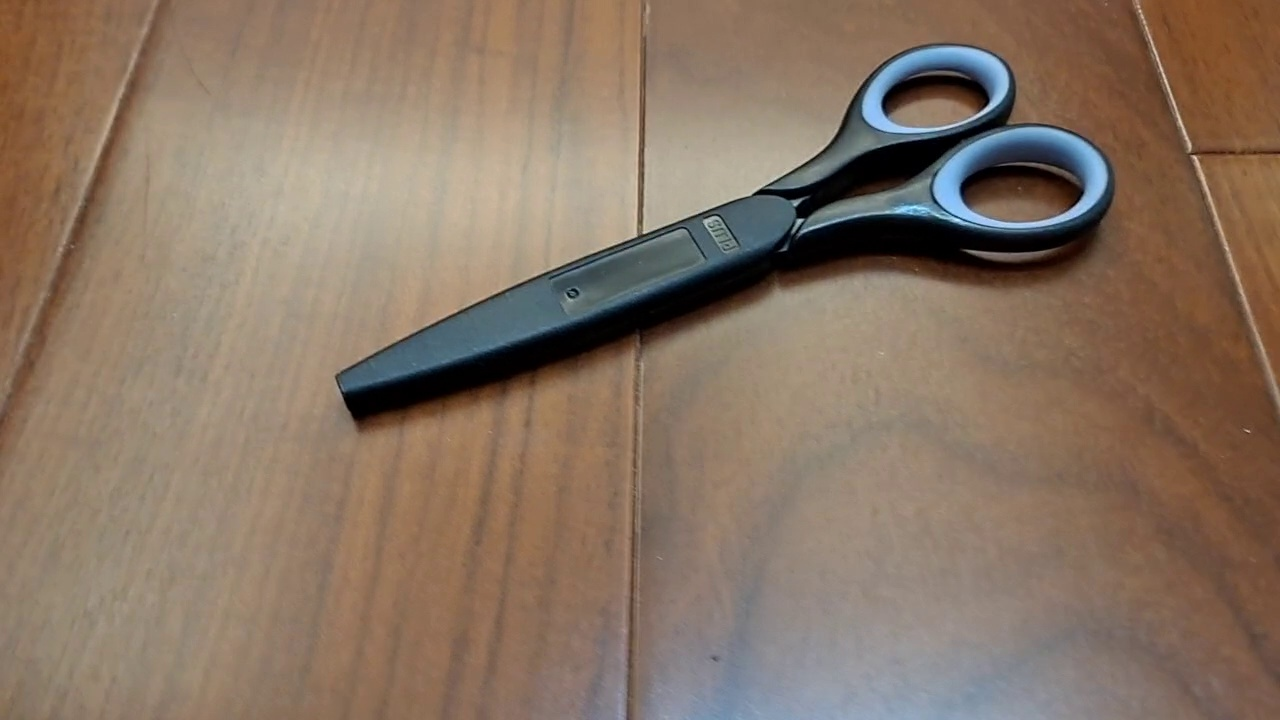scissors: (333, 42, 1116, 423)
